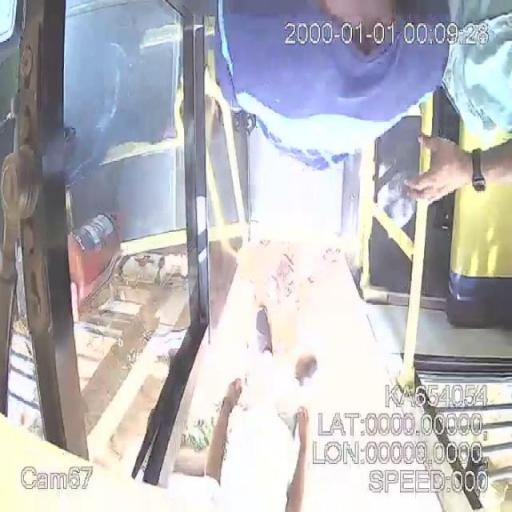persona: (212, 0, 450, 178), (202, 304, 316, 510)
